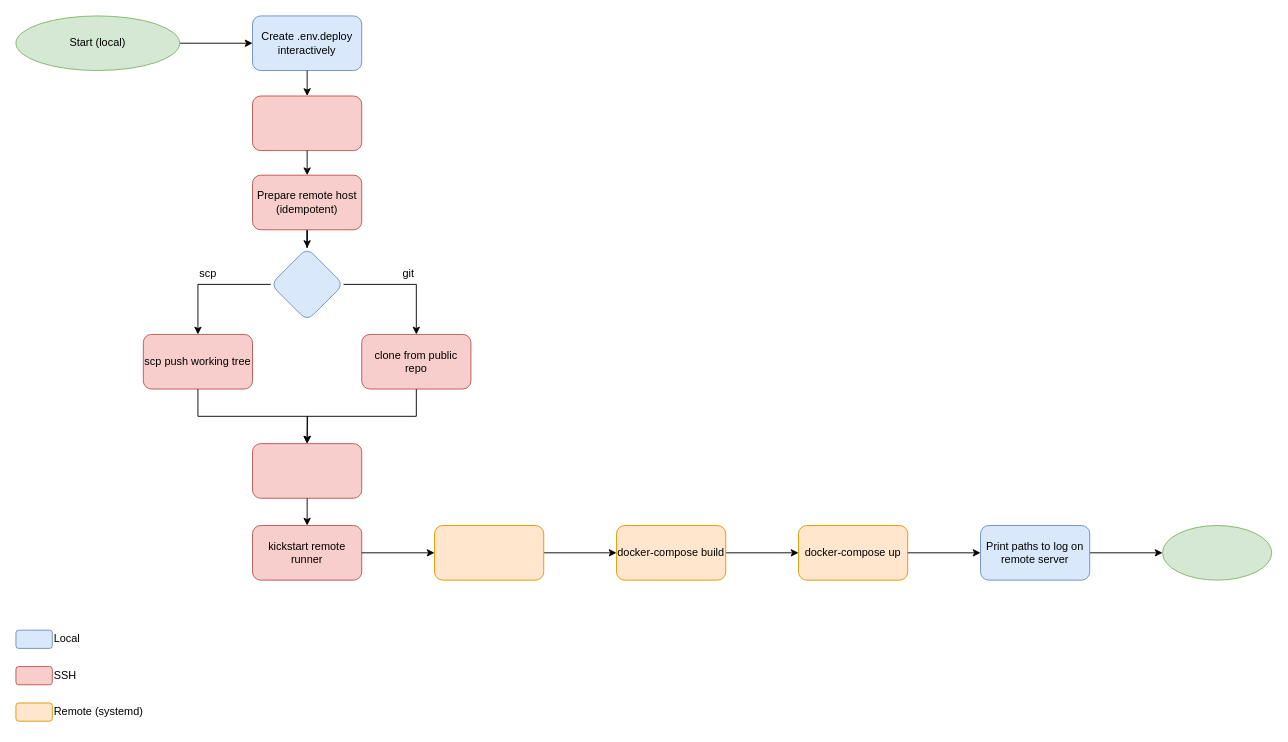
This 1288x742 diagram has some shape labels left out. Each missing label, with the box of its shape:
Check ssh connectivity: (252, 95, 362, 151)
docker-compose down: (434, 525, 544, 580)
Done: (1162, 525, 1272, 580)
scp or git?: (270, 247, 344, 321)
upload .env.deploy: (252, 443, 362, 498)
